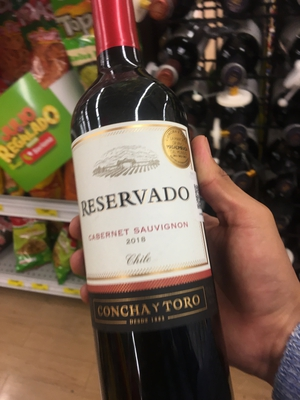reservado cabernet sauvignon: (67, 1, 219, 400)
